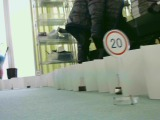speed_20: (100, 28, 131, 58)
